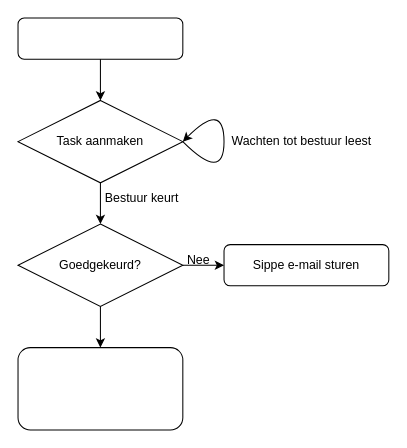
The diagram is 407 pixels wide and 448 high, and some of its shapes have lost their labels. Each missing label, with the centre of its shape:
"Aanmelden" belongs at point (100, 38).
"Nieuwe user aanmaken Blije e-mail sturen" belongs at point (100, 388).
